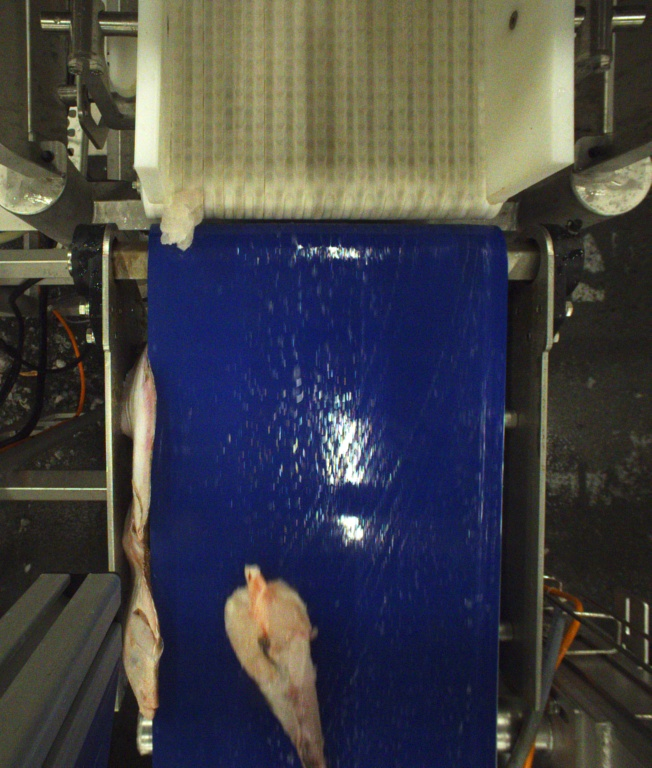ANF: (221, 563, 325, 768)
